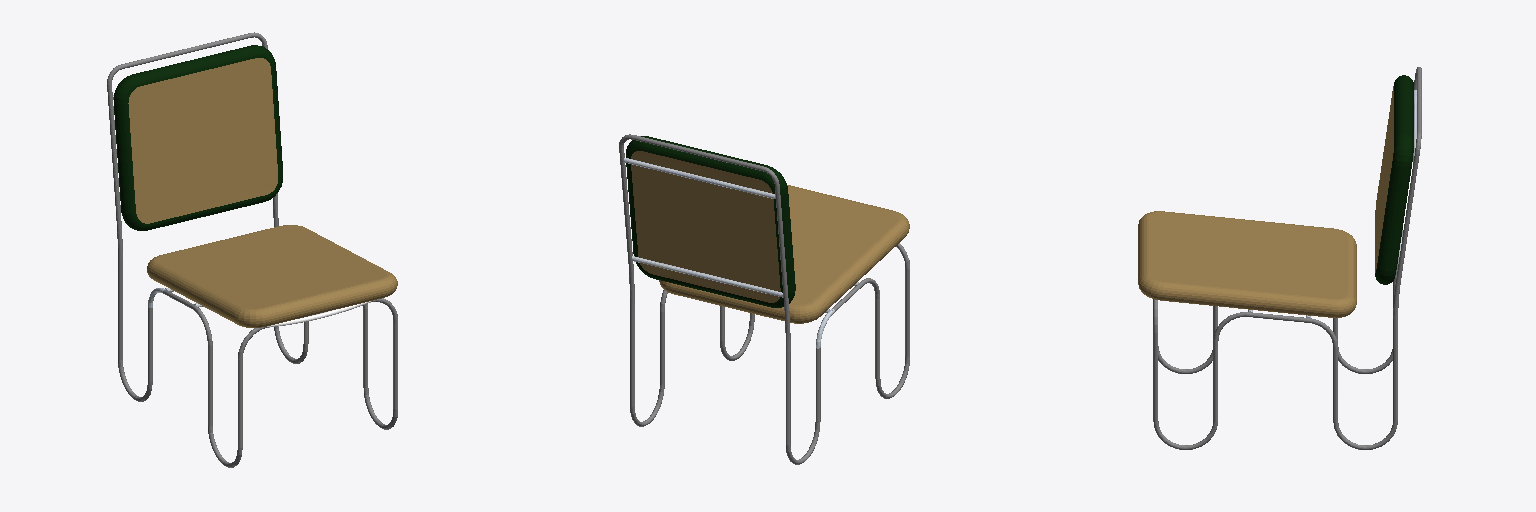
3 renders of one model, left to right at view 1: azimuth 30°, elevation 25°; view 2: azimuth 150°, elevation 25°; view 3: azimuth 270°, elevation 25°, orthographic.
Parts seen in each view (by area): view 1: Mesh5 Model, Mesh4 Model, Mesh1 Model; view 2: Mesh5 Model, Mesh4 Model, Mesh1 Model; view 3: Mesh4 Model, Mesh1 Model, Mesh5 Model.
Boxes of the visible parts, box(x1,y1,x2,y2) form: Mesh5 Model: box(114, 45, 282, 230); Mesh4 Model: box(147, 225, 397, 327); Mesh1 Model: box(107, 32, 397, 467); Mesh5 Model: box(626, 136, 795, 307); Mesh4 Model: box(659, 185, 909, 323); Mesh1 Model: box(619, 134, 909, 464); Mesh4 Model: box(1138, 211, 1356, 317); Mesh1 Model: box(1153, 67, 1421, 449); Mesh5 Model: box(1375, 75, 1413, 284).
Size of the model in its own units: 18.5 by 34.5 by 28.39.
Materials: 6 (1 with a texture image).